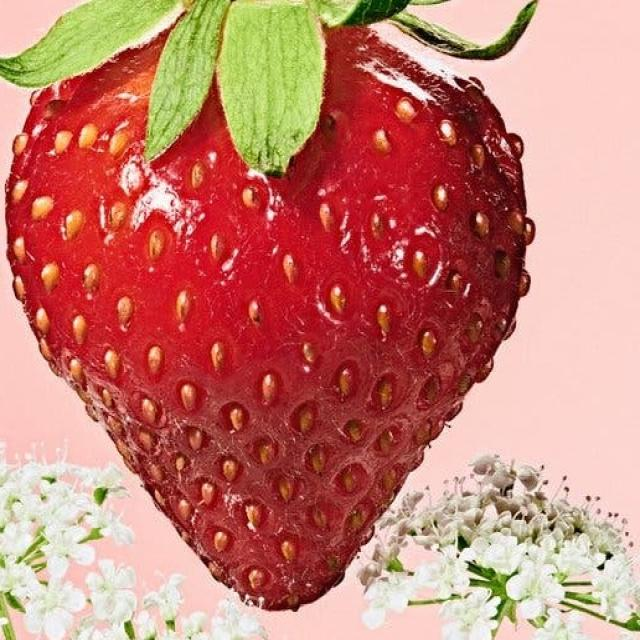strawberry: (0, 0, 576, 621)
